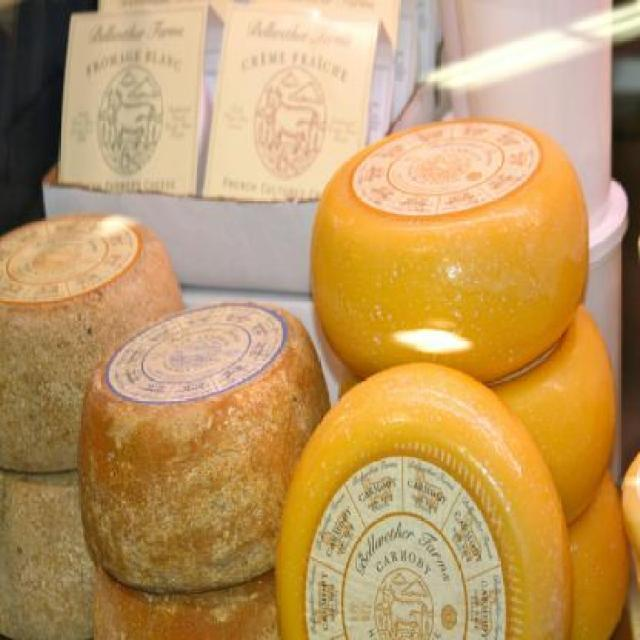Cheese: (0, 112, 640, 640)
